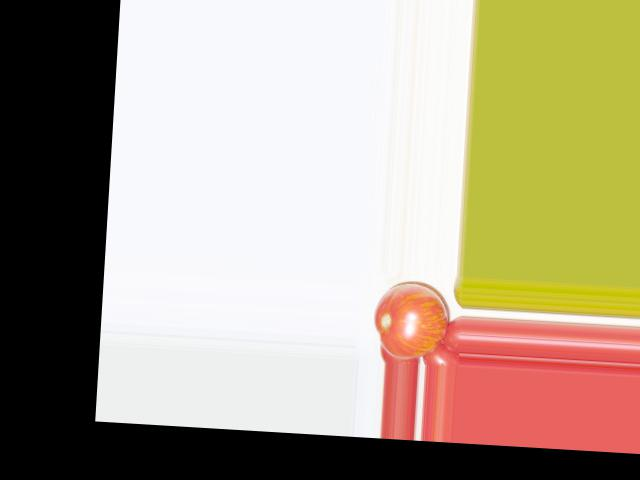tomato: (371, 281, 450, 361)
